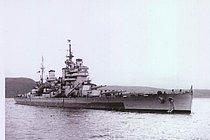Ship: (13, 60, 195, 118)
